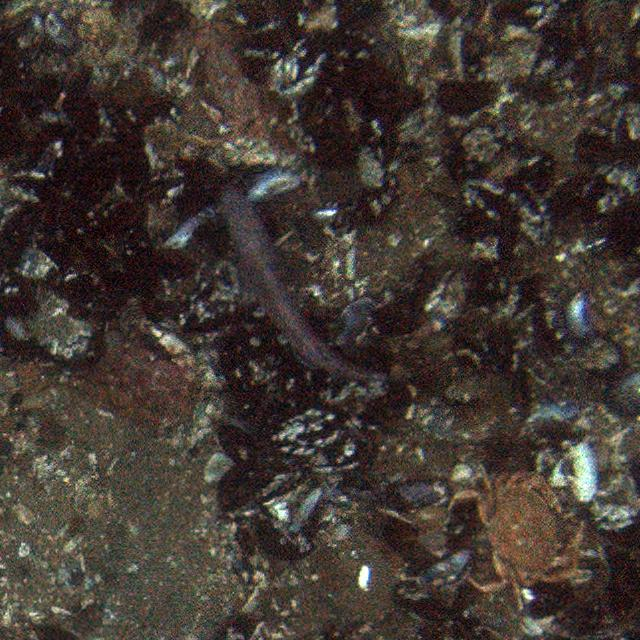roundfish: (158, 160, 388, 392)
